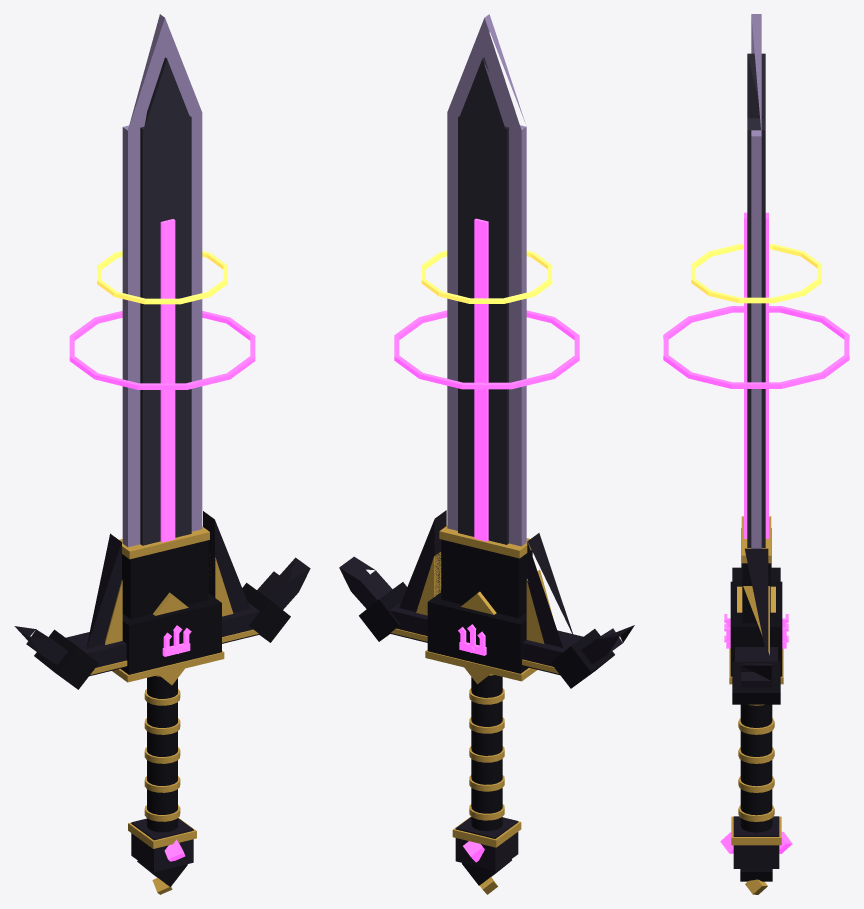
3 renders of one model, left to right at view 1: azimuth 30°, elevation 25°; view 2: azimuth 150°, elevation 25°; view 3: azimuth 270°, elevation 25°, orthographic.
Visible parts, largest first — view 1: eclipse-greatsword; view 2: eclipse-greatsword; view 3: eclipse-greatsword.
Part boxes in pixels (<box>): eclipse-greatsword: <box>14,14,310,894</box>; eclipse-greatsword: <box>339,14,634,894</box>; eclipse-greatsword: <box>663,14,849,894</box>.
Size of the model in its own units: 0.6171 by 1.84 by 0.3529.
